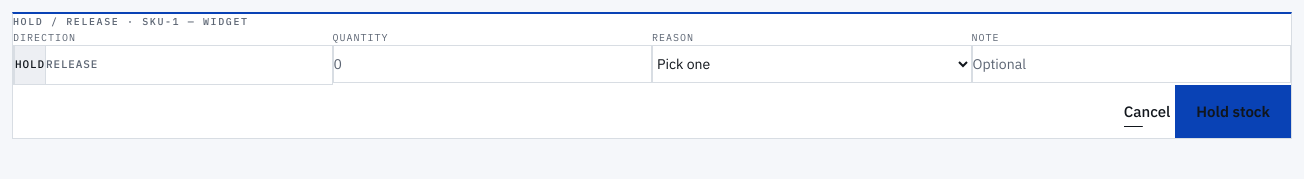
Test case: OperatorPanel hold mode › blocks a non-positive quantity and a missing hold reason before the action
The width and height of the screenshot is (1304, 179).
Click the button "Hold stock".
click(1233, 112)  # box left=1175, top=85, right=1291, bottom=138
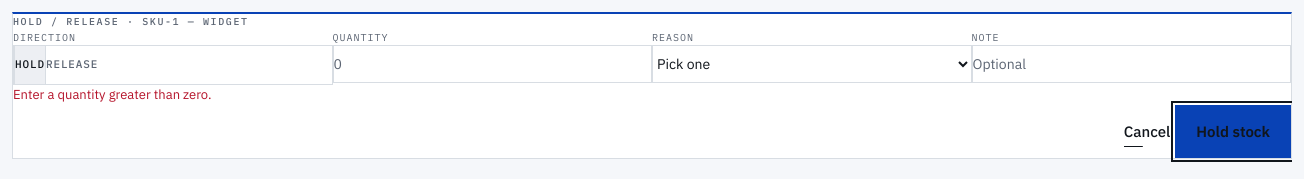
Now the message reads "Enter a quantity greater than zero.", box left=13, top=86, right=211, bottom=103
Type "3" into the number field labelled "Quantity".
click(492, 64); type("3")  # box left=332, top=45, right=652, bottom=83
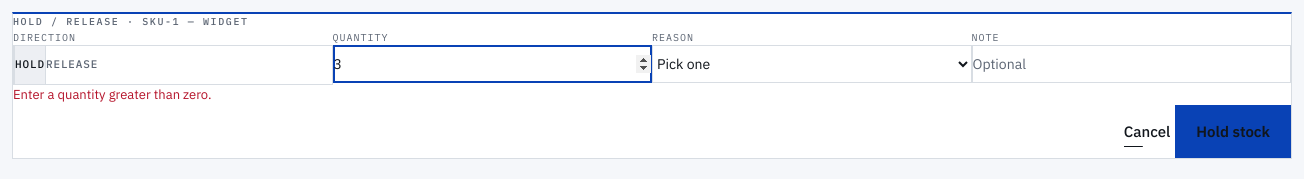
Click the button "Hold stock".
click(1233, 132)  # box left=1175, top=105, right=1291, bottom=158
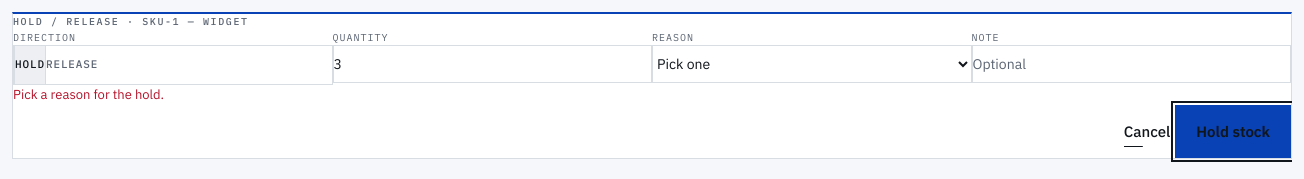
Now the message reads "Pick a reason for the hold.", box left=13, top=86, right=164, bottom=103
